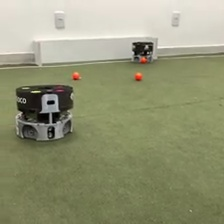ball: (134, 71, 143, 80), (72, 70, 80, 80), (140, 55, 147, 63)
goal: (33, 33, 160, 69)
robot: (13, 82, 76, 144), (130, 40, 155, 65)
